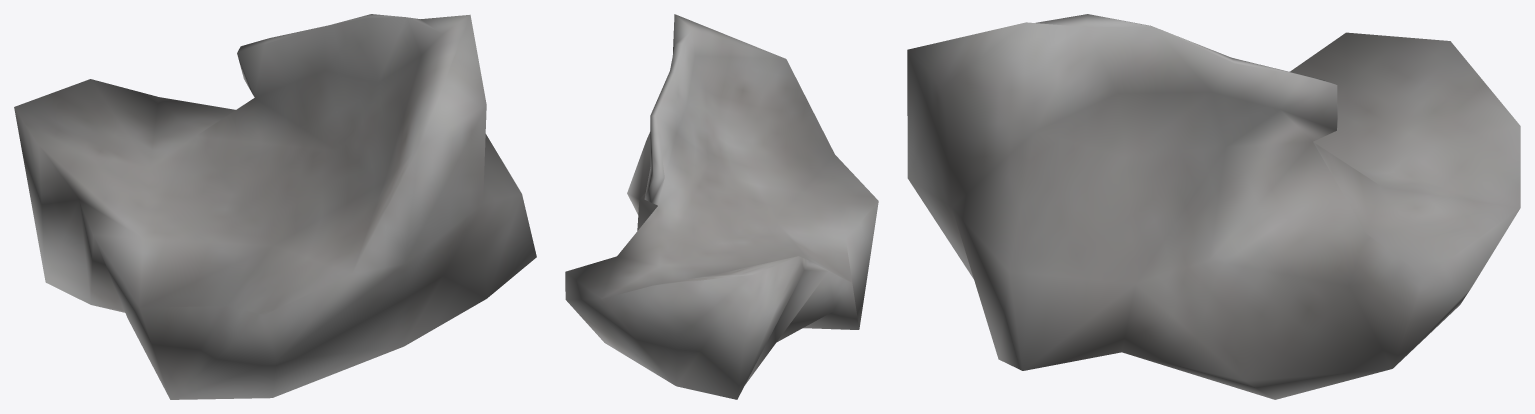
File: SM_Small_Trash_Debris_05.FBX
The picture shows the model from 3 angles, left to right: view 1: azimuth 30°, elevation 25°; view 2: azimuth 150°, elevation 25°; view 3: azimuth 270°, elevation 25°; orthographic projection. The views are drawn at different scales.
Parts seen in each view (by area): view 1: SM_Small_Trash_Debris_05_LOD0; view 2: SM_Small_Trash_Debris_05_LOD0; view 3: SM_Small_Trash_Debris_05_LOD0.
Part boxes in pixels (left/top/right/bottom): SM_Small_Trash_Debris_05_LOD0: left=14, top=14, right=536, bottom=399; SM_Small_Trash_Debris_05_LOD0: left=565, top=14, right=878, bottom=399; SM_Small_Trash_Debris_05_LOD0: left=907, top=14, right=1520, bottom=399.
Size of what is drawn, in the model's own units: 4.41 by 5.33 by 3.97.
